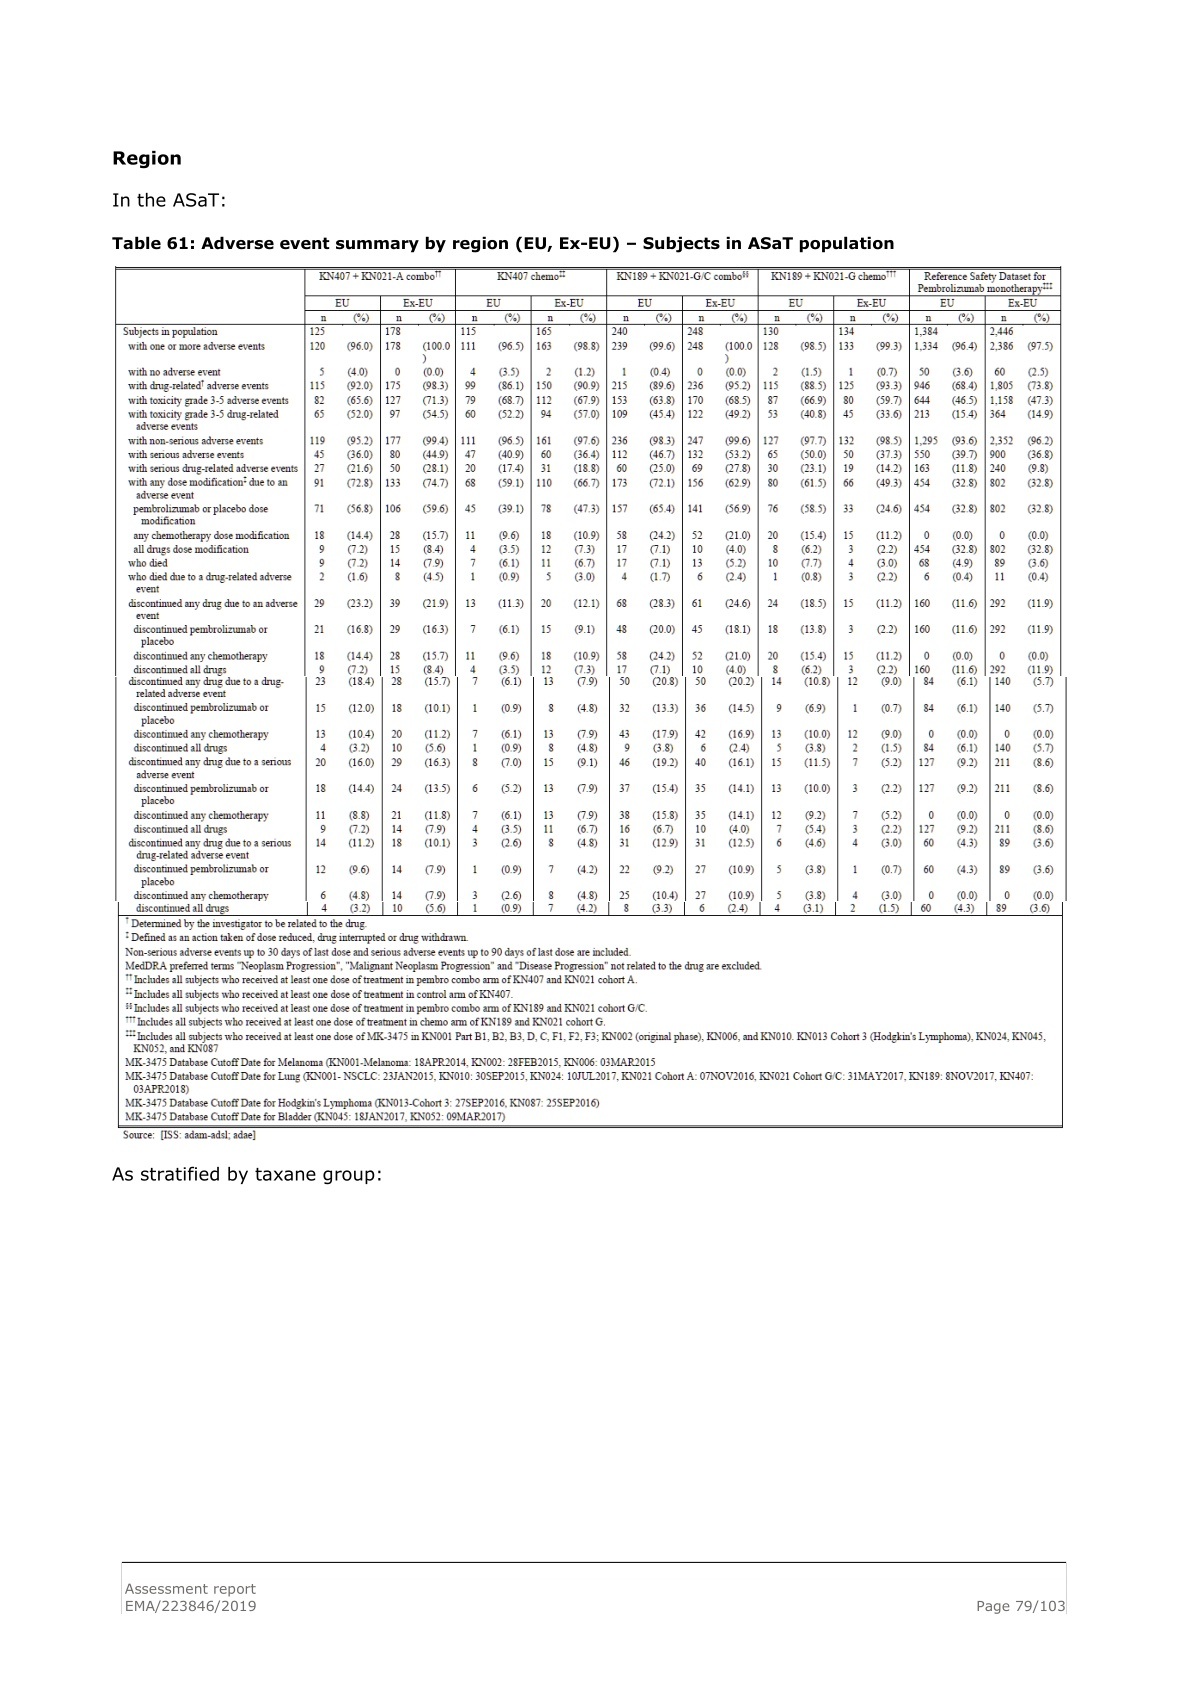partial_lined_merged_cells: (115, 265, 1069, 1129)
